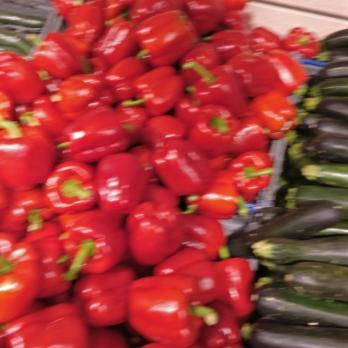Capsicum: (0, 50, 245, 348), (55, 0, 275, 197), (269, 17, 309, 134)
